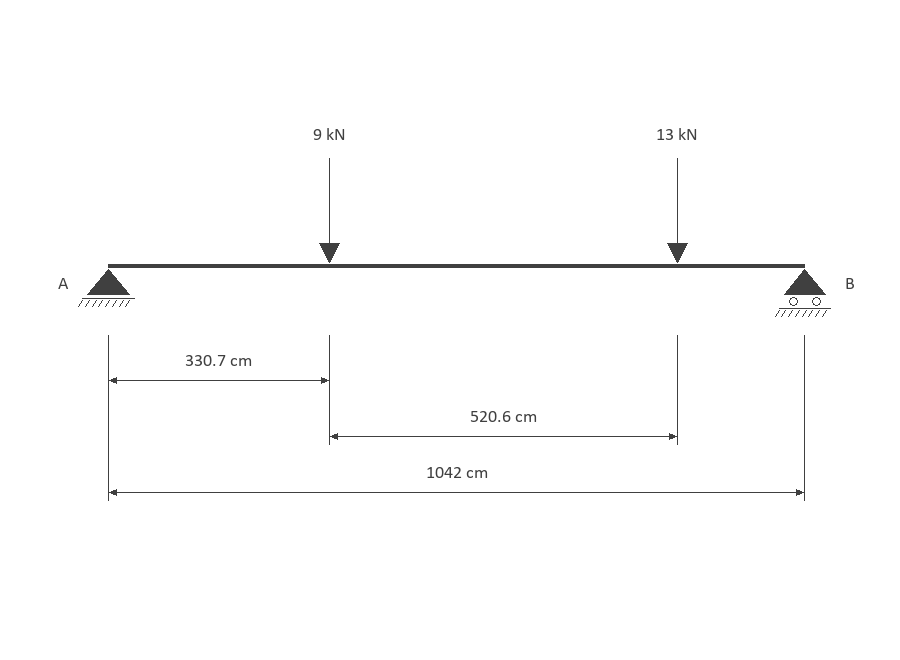pin_support: (78, 269, 135, 307)
point_load: (319, 158, 340, 263), (667, 158, 688, 263)
roller_support: (775, 269, 831, 317)
